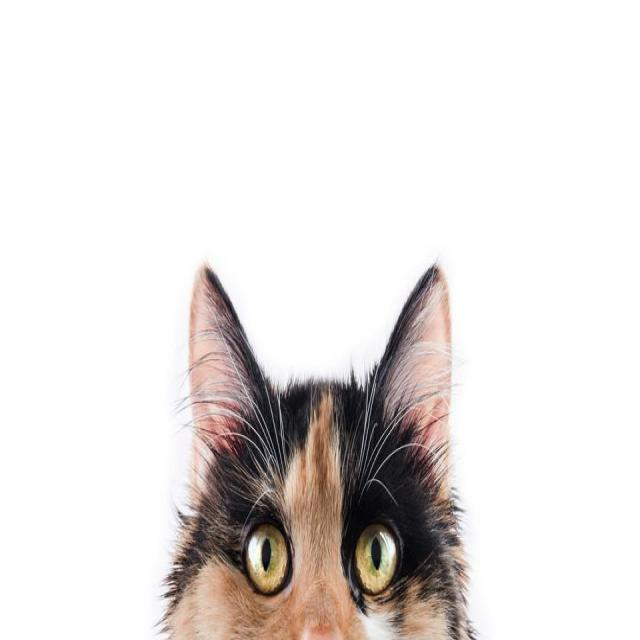Cat: (162, 250, 479, 640)
